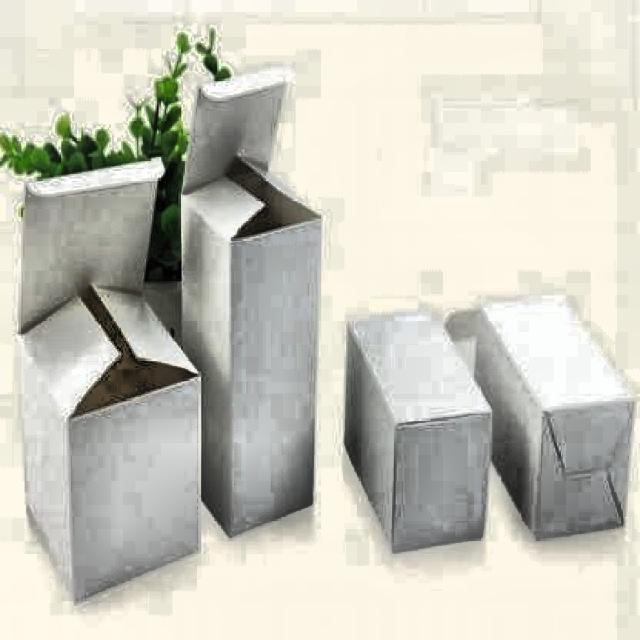Cardbox: (158, 58, 344, 582), (0, 148, 212, 603), (447, 252, 640, 568), (337, 277, 507, 578)
